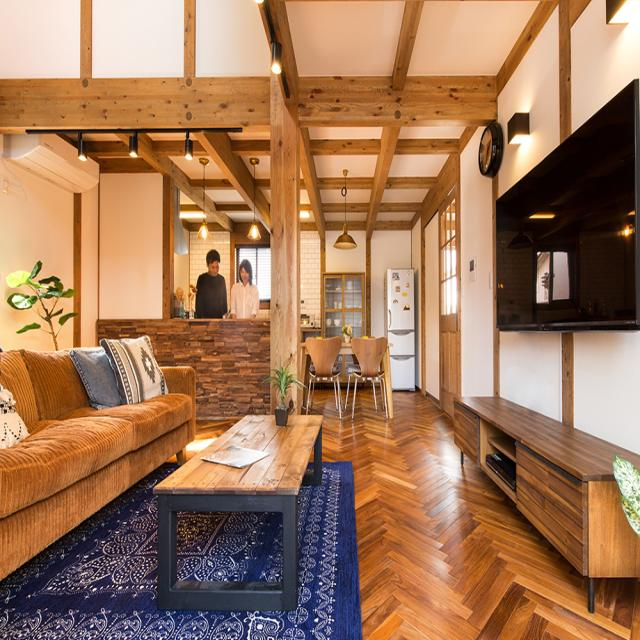vintage chair: (350, 332, 389, 416), (303, 335, 343, 415)
vintage desk: (162, 412, 323, 612)
vintage shelf: (445, 388, 640, 613)
vintage sofa: (0, 330, 197, 593)
